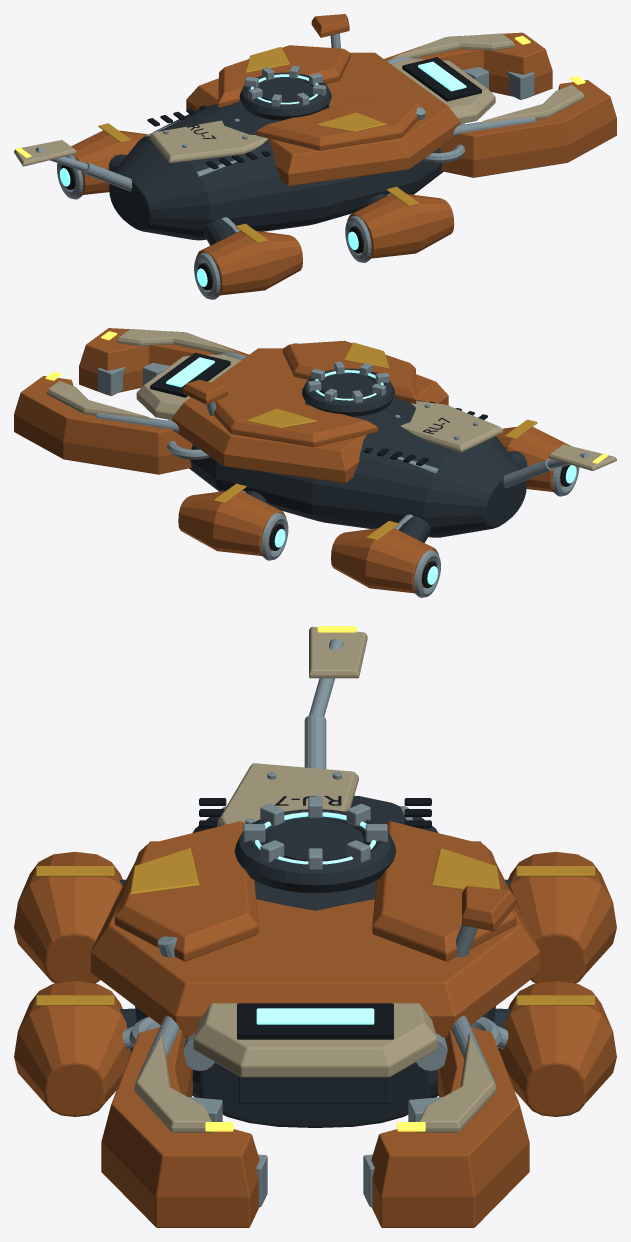
Rendered from ruckus-lod0.glb.
The picture shows the model from 3 angles, top to bottom: view 1: azimuth 30°, elevation 25°; view 2: azimuth 150°, elevation 25°; view 3: azimuth 270°, elevation 25°; orthographic projection. The views are drawn at different scales.
Parts seen in each view (by area): view 1: RUCKUS_LOD0_Body_RU7_gunmetal, RUCKUS_LOD0_Body_RU7_paint, RUCKUS_LOD0_JawL_RU7_paint, RUCKUS_LOD0_Body_RU7_paint2, RUCKUS_LOD0_Paw_4_-1_RU7_paint, RUCKUS_LOD0_Paw_-10_-1_RU7_paint, RUCKUS_LOD0_JawR_RU7_paint, RUCKUS_LOD0_Drum_RU7_gunmetal, RUCKUS_LOD0_Body_RU7_dark, RUCKUS_LOD0_Paw_-10_1_RU7_paint, RUCKUS_LOD0_JawR_RU7_paint2, RUCKUS_LOD0_Body_RU7_stripe (+11 smaller); view 2: RUCKUS_LOD0_Body_RU7_gunmetal, RUCKUS_LOD0_Body_RU7_paint, RUCKUS_LOD0_JawR_RU7_paint, RUCKUS_LOD0_Paw_4_1_RU7_paint, RUCKUS_LOD0_Paw_-10_1_RU7_paint, RUCKUS_LOD0_Body_RU7_paint2, RUCKUS_LOD0_JawL_RU7_paint, RUCKUS_LOD0_Drum_RU7_gunmetal, RUCKUS_LOD0_Paw_-10_-1_RU7_paint, RUCKUS_LOD0_Body_RU7_dark, RUCKUS_LOD0_JawL_RU7_paint2, RUCKUS_LOD0_Body_RU7_stripe (+11 smaller); view 3: RUCKUS_LOD0_Body_RU7_paint, RUCKUS_LOD0_JawL_RU7_paint, RUCKUS_LOD0_JawR_RU7_paint, RUCKUS_LOD0_Body_RU7_paint2, RUCKUS_LOD0_Body_RU7_gunmetal, RUCKUS_LOD0_Paw_4_-1_RU7_paint, RUCKUS_LOD0_Paw_4_1_RU7_paint, RUCKUS_LOD0_Paw_-10_-1_RU7_paint, RUCKUS_LOD0_Paw_-10_1_RU7_paint, RUCKUS_LOD0_Drum_RU7_gunmetal, RUCKUS_LOD0_Body_RU7_dark, RUCKUS_LOD0_Body_RU7_stripe (+13 smaller).
Boxes of the visible parts, x1,y1,x2,y2 form: RUCKUS_LOD0_Body_RU7_gunmetal: (108, 101, 443, 245); RUCKUS_LOD0_Body_RU7_paint: (186, 14, 460, 186); RUCKUS_LOD0_JawL_RU7_paint: (440, 80, 616, 177); RUCKUS_LOD0_Body_RU7_paint2: (149, 58, 495, 163); RUCKUS_LOD0_Paw_4_-1_RU7_paint: (347, 194, 454, 258); RUCKUS_LOD0_Paw_-10_-1_RU7_paint: (196, 231, 302, 295); RUCKUS_LOD0_JawR_RU7_paint: (384, 32, 552, 98); RUCKUS_LOD0_Drum_RU7_gunmetal: (239, 72, 331, 120); RUCKUS_LOD0_Body_RU7_dark: (147, 57, 481, 169); RUCKUS_LOD0_Paw_-10_1_RU7_paint: (71, 130, 147, 194); RUCKUS_LOD0_JawR_RU7_paint2: (391, 33, 514, 59); RUCKUS_LOD0_Body_RU7_stripe: (245, 47, 386, 131); RUCKUS_LOD0_Body_RU7_gunmetal: (189, 397, 527, 542); RUCKUS_LOD0_Body_RU7_paint: (172, 340, 448, 482); RUCKUS_LOD0_JawR_RU7_paint: (14, 376, 192, 474); RUCKUS_LOD0_Paw_4_1_RU7_paint: (178, 491, 286, 555); RUCKUS_LOD0_Paw_-10_1_RU7_paint: (331, 528, 438, 593); RUCKUS_LOD0_Body_RU7_paint2: (136, 354, 503, 452); RUCKUS_LOD0_JawL_RU7_paint: (79, 328, 248, 394); RUCKUS_LOD0_Drum_RU7_gunmetal: (302, 368, 394, 416); RUCKUS_LOD0_Paw_-10_-1_RU7_paint: (495, 427, 570, 491); RUCKUS_LOD0_Body_RU7_dark: (150, 352, 487, 465); RUCKUS_LOD0_JawL_RU7_paint2: (117, 329, 241, 354); RUCKUS_LOD0_Body_RU7_stripe: (246, 342, 389, 427); RUCKUS_LOD0_Body_RU7_paint: (90, 821, 540, 1037); RUCKUS_LOD0_JawL_RU7_paint: (101, 1027, 259, 1227); RUCKUS_LOD0_JawR_RU7_paint: (371, 1027, 529, 1227); RUCKUS_LOD0_Body_RU7_paint2: (193, 763, 437, 1077); RUCKUS_LOD0_Body_RU7_gunmetal: (119, 795, 511, 1127); RUCKUS_LOD0_Paw_4_-1_RU7_paint: (14, 981, 131, 1116); RUCKUS_LOD0_Paw_4_1_RU7_paint: (499, 981, 616, 1116); RUCKUS_LOD0_Paw_-10_-1_RU7_paint: (14, 851, 122, 983); RUCKUS_LOD0_Paw_-10_1_RU7_paint: (508, 851, 616, 983); RUCKUS_LOD0_Drum_RU7_gunmetal: (234, 809, 396, 893); RUCKUS_LOD0_Body_RU7_dark: (199, 796, 431, 1039); RUCKUS_LOD0_Body_RU7_stripe: (130, 848, 500, 894).
Bounding box in the file's own units: 50.98 × 11.95 × 27.6.
